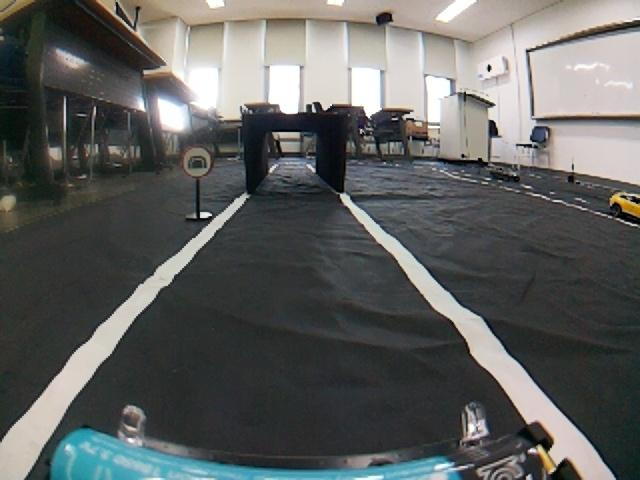sign_tunnel: (180, 139, 222, 188)
straight: (5, 253, 640, 480)
